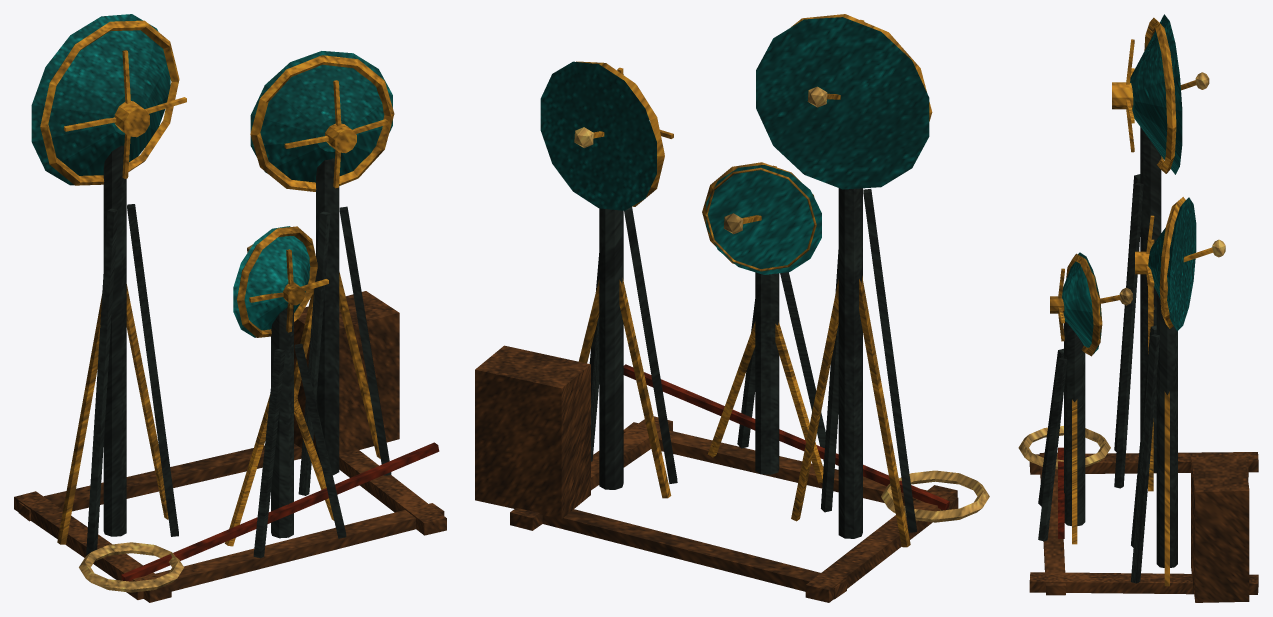
Rendered from east-ridge-dish-cluster.glb.
The picture shows the model from 3 angles, left to right: view 1: azimuth 30°, elevation 25°; view 2: azimuth 150°, elevation 25°; view 3: azimuth 270°, elevation 25°; orthographic projection. The views are drawn at different scales.
Visible parts, largest first — view 1: east-ridge-dish-cluster; view 2: east-ridge-dish-cluster; view 3: east-ridge-dish-cluster.
Boxes of the visible parts, <box> form: east-ridge-dish-cluster: <box>14,14,446,602</box>; east-ridge-dish-cluster: <box>475,14,989,602</box>; east-ridge-dish-cluster: <box>1018,14,1258,602</box>.
Bounding box in the file's own units: 5.97 × 7.62 × 3.63.
Materials: 1 (1 with a texture image).
